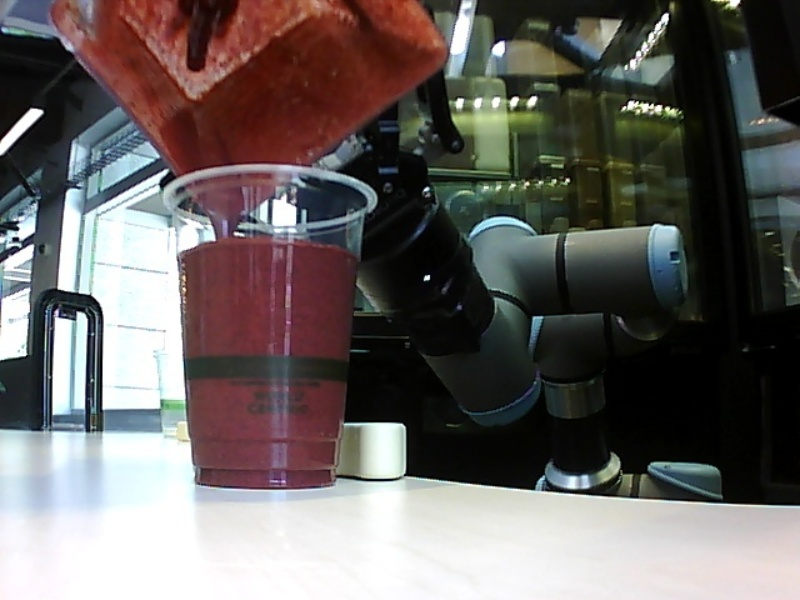cup: (153, 161, 381, 490)
limit: (171, 232, 361, 270)
